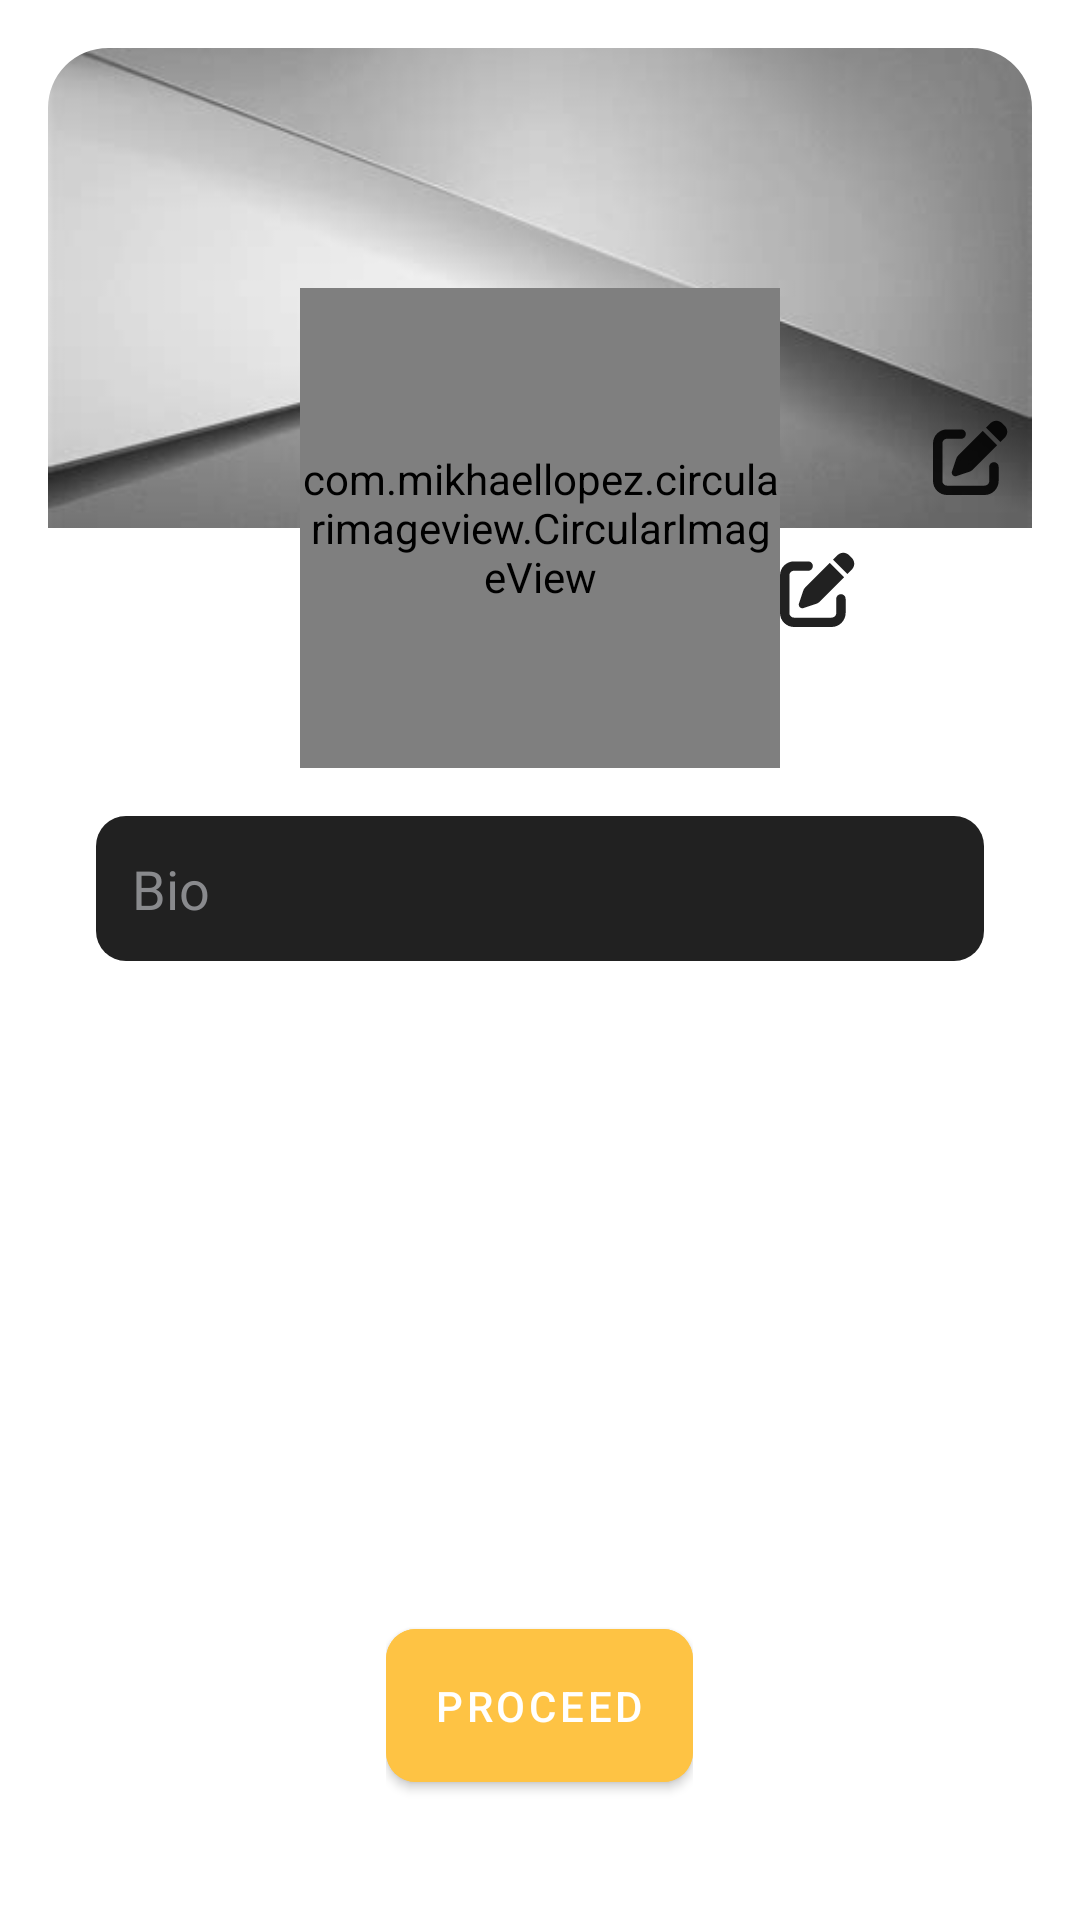

Icon click points for this 1080*1920 phone screenshot, format (x,y):
edit: (970,457), (817,589)
